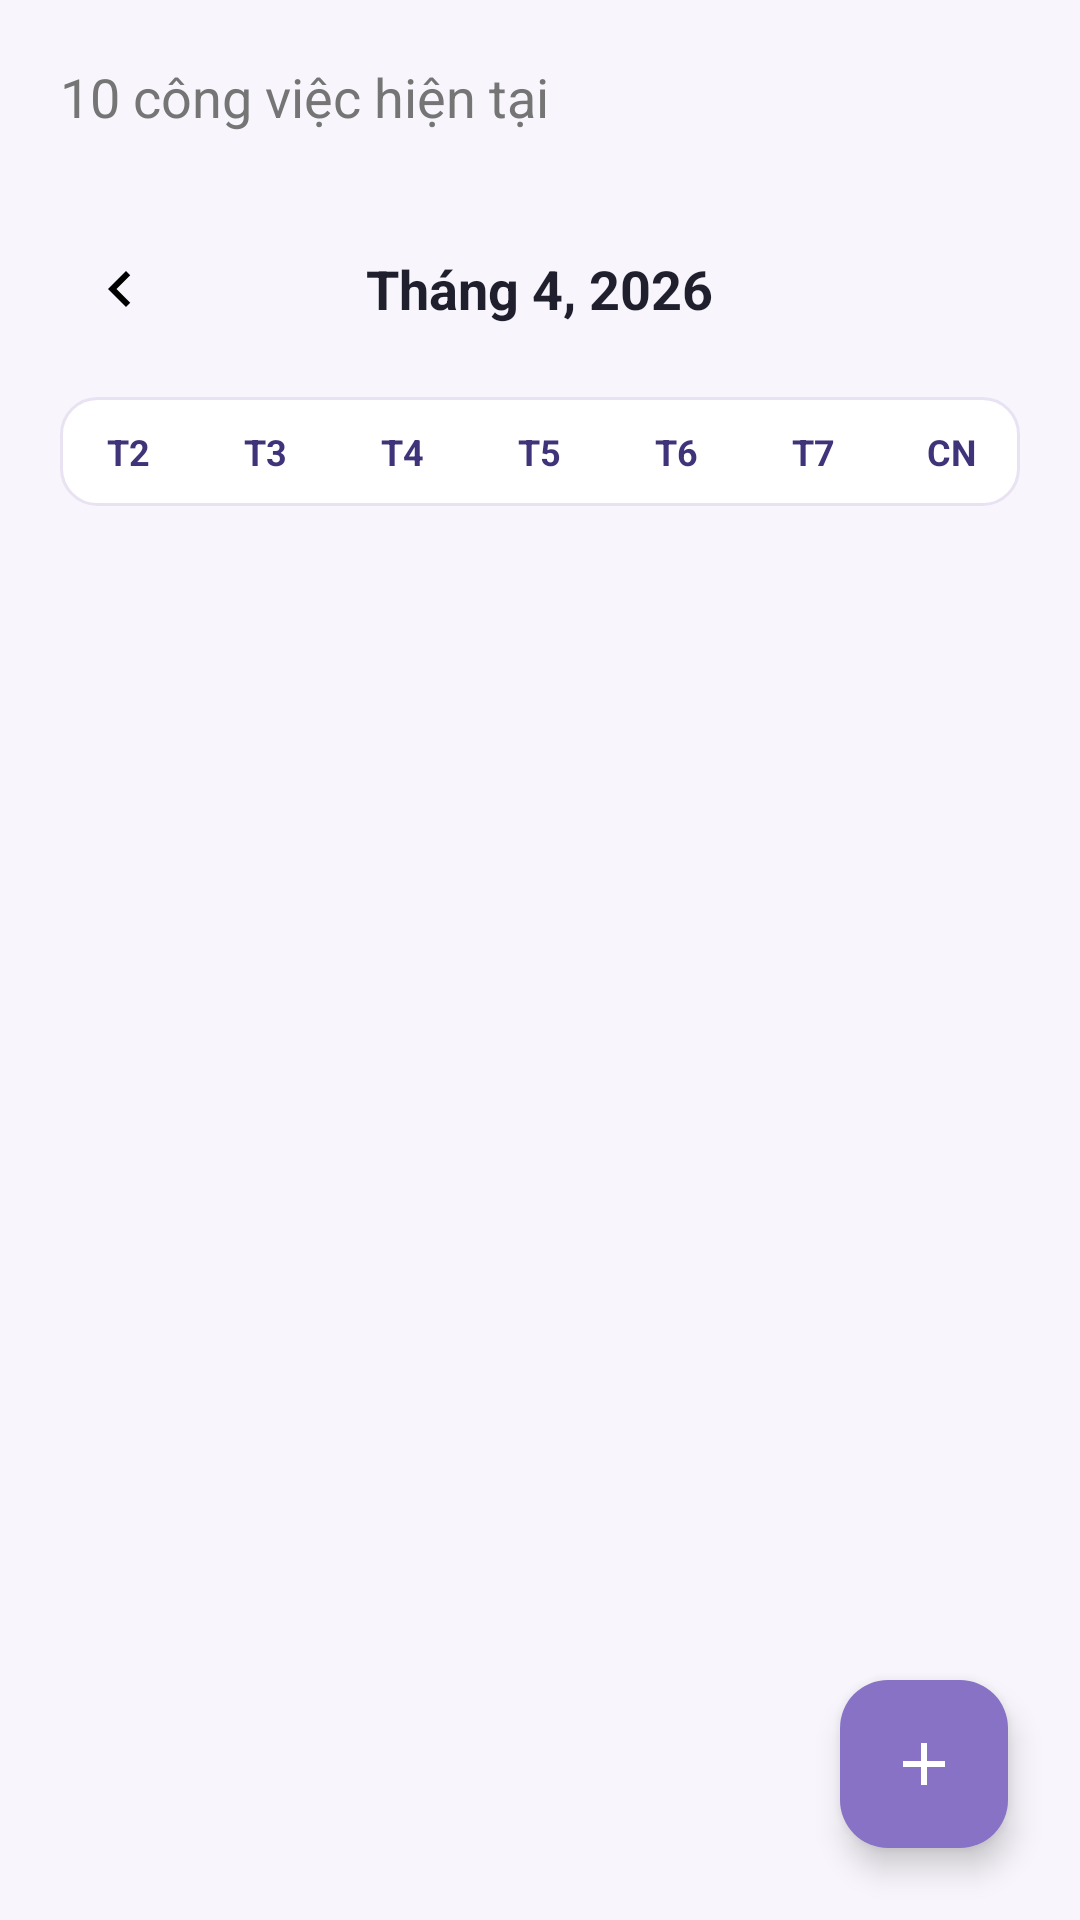

Icons on this 1080*1920 Android screen, each with the point to tap as point (x, y):
add: point (924, 1764)
chevron left: point (119, 289)
